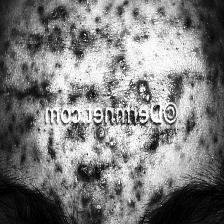Non-Cancerous Skin Condition: (0, 0, 224, 167)
